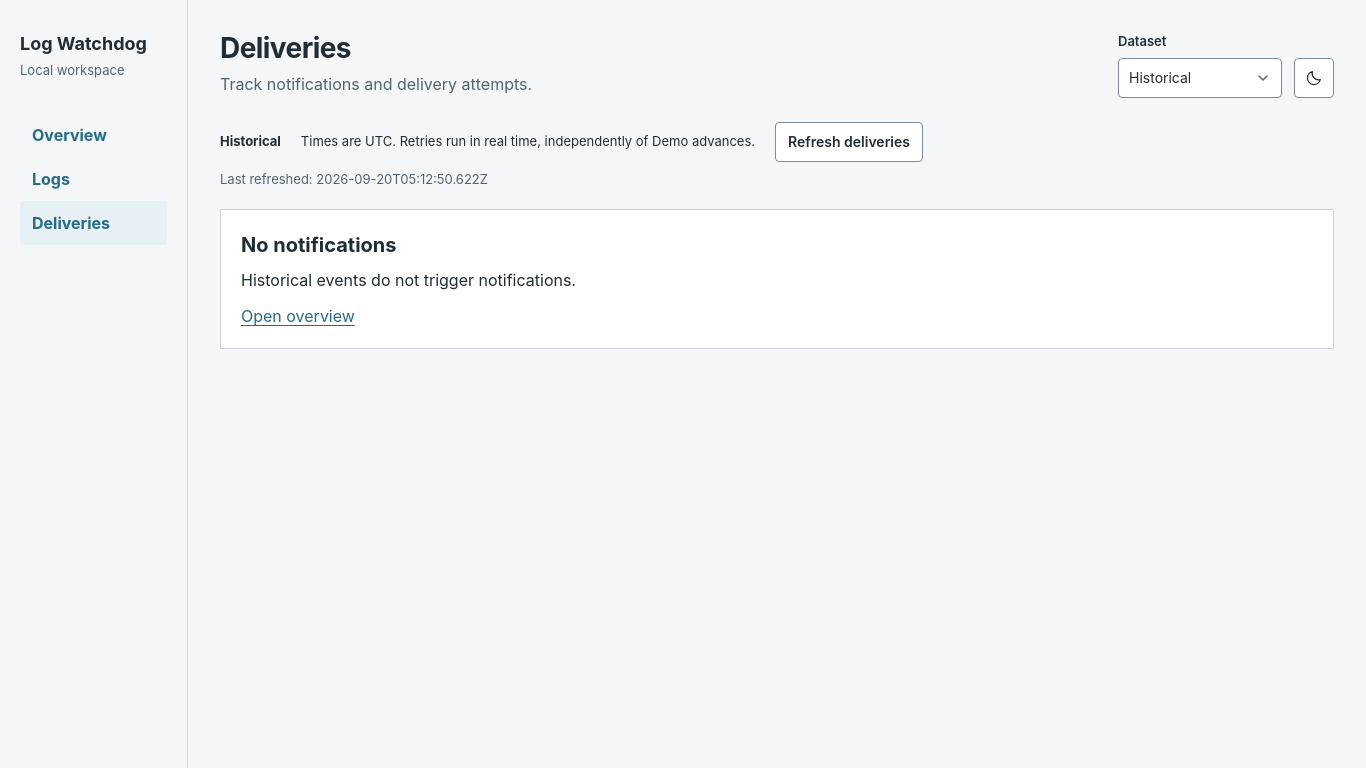
Test: opens Live Overview from Historical Deliveries via Open overview
Expected: the text "Historical events do not trigger notifications." is shown, [241,270,576,290]
What coordinates should you click on to do the following:
click the link "Open overview"
I would click on:
 (298, 316)
Its box is [241,306,355,326].
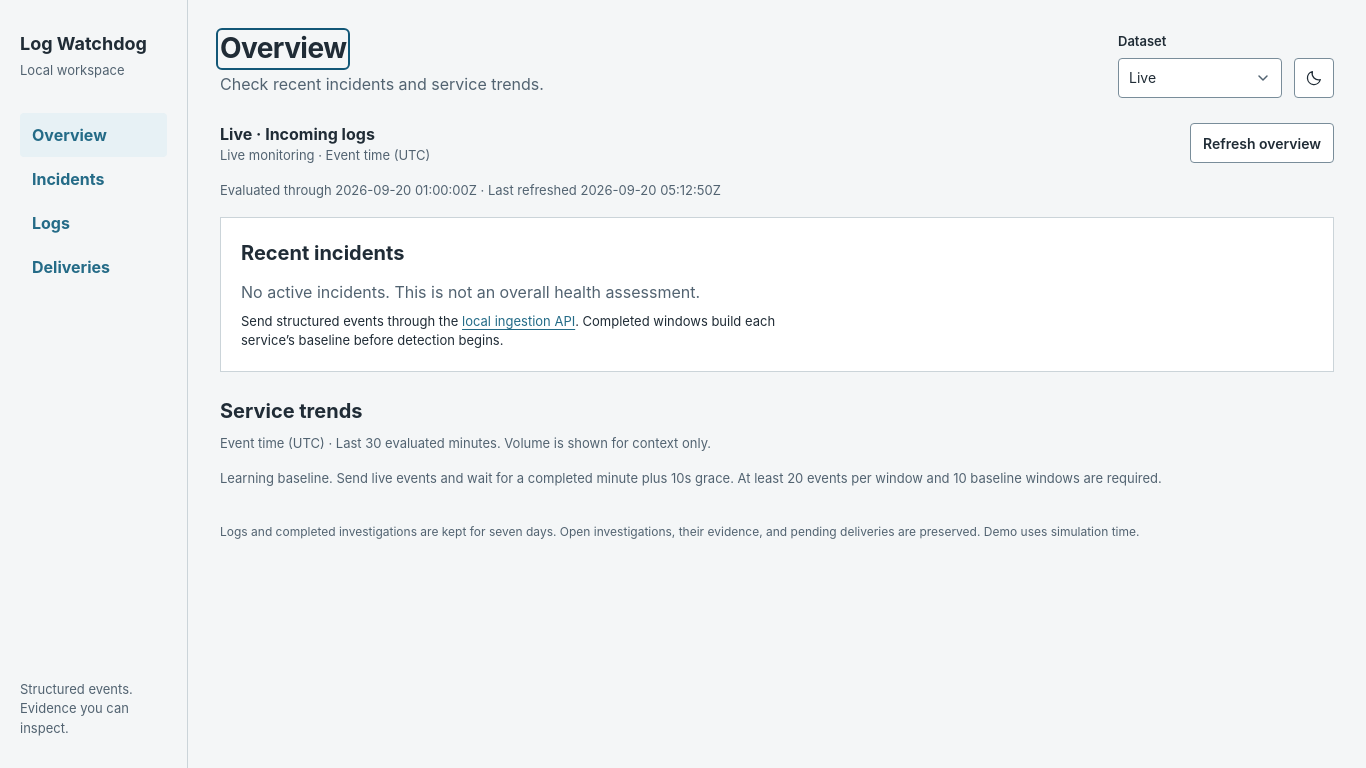
Expected: the heading "Overview" is shown, [220,32,346,66]
Expected: the text "Live · Incoming logs" is shown, [220,124,375,144]
Expected: the dropdown labelled "Dataset" shows "Live", [1118,58,1282,98]
